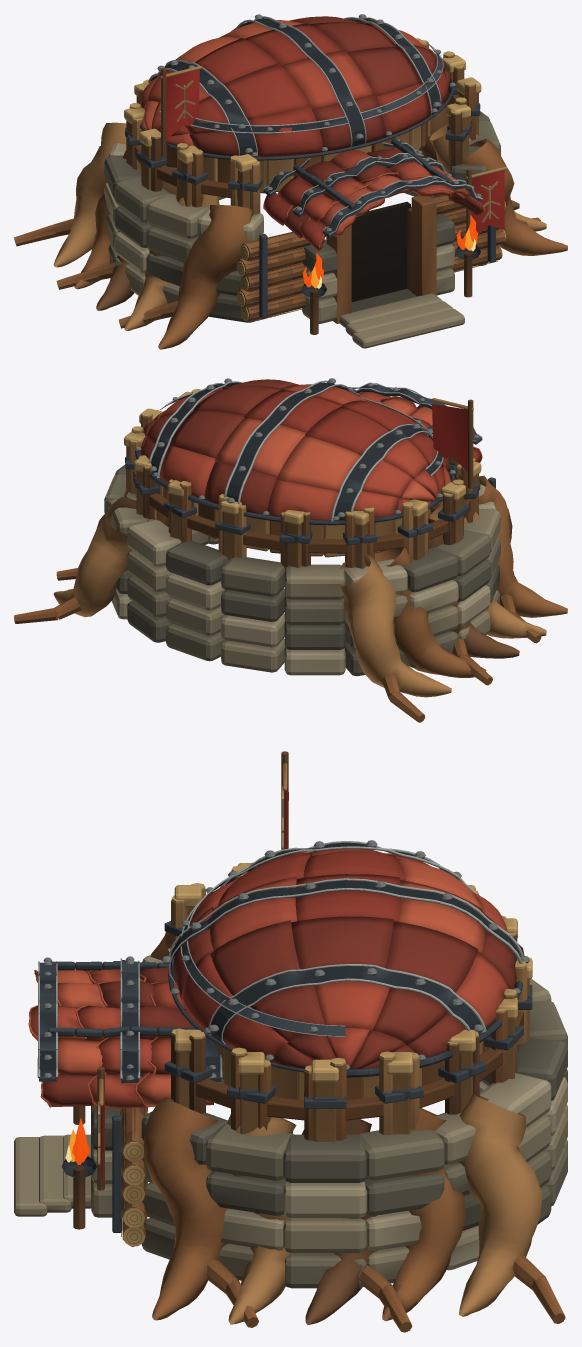
Rendered from fort.glb.
The picture shows the model from 3 angles, top to bottom: view 1: azimuth 30°, elevation 25°; view 2: azimuth 150°, elevation 25°; view 3: azimuth 270°, elevation 25°; orthographic projection. The views are drawn at different scales.
Parts seen in each view (by area): view 1: fort.001; view 2: fort.001; view 3: fort.001.
Boxes of the visible parts, bbox=[...] form: fort.001: bbox=[14, 14, 567, 349]; fort.001: bbox=[14, 378, 567, 722]; fort.001: bbox=[14, 751, 567, 1332].
Size of the model in its own units: 8.64 by 4.54 by 6.87.
